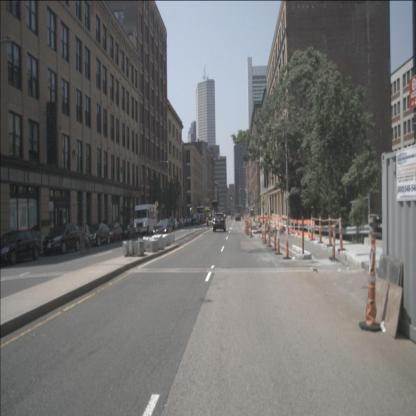cone: (358, 231, 381, 332), (337, 213, 346, 250), (329, 227, 338, 261), (283, 222, 291, 259), (275, 224, 282, 255), (327, 214, 333, 247), (317, 215, 324, 243), (309, 213, 315, 241), (272, 224, 278, 250), (262, 222, 268, 243), (267, 222, 272, 247), (249, 219, 253, 238), (261, 221, 265, 240), (247, 221, 250, 236), (244, 220, 248, 231), (245, 221, 248, 234)
